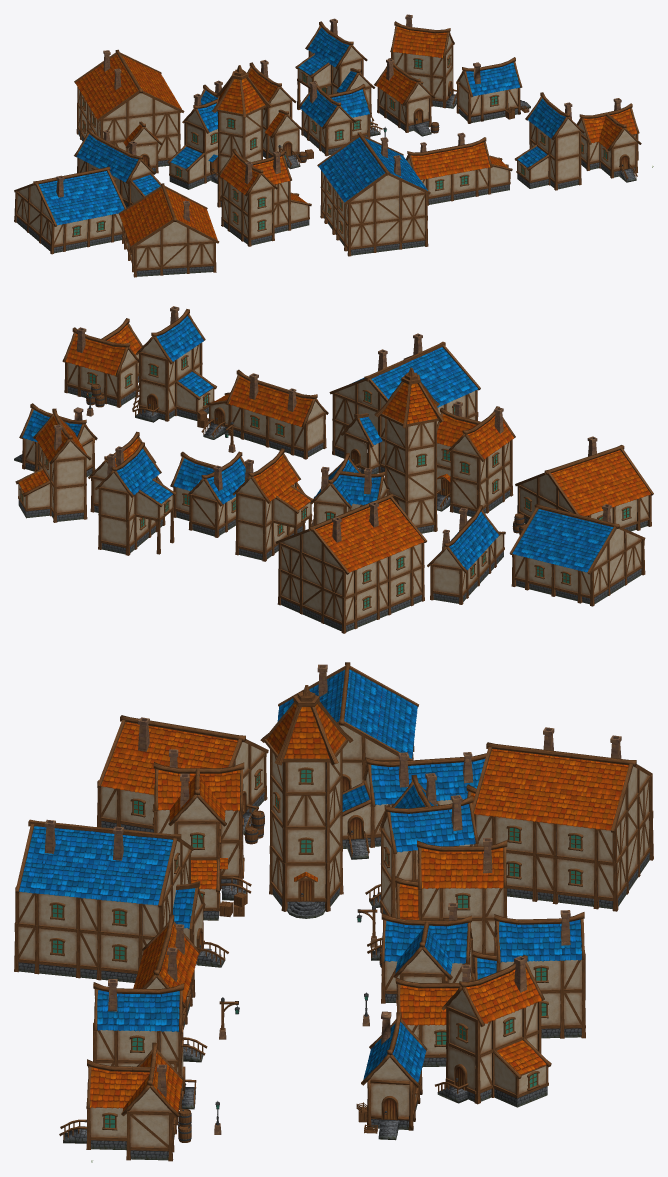
The model's file is MediEval Scene edited.fbx.
3 views of the same model, one above another, from view 1: azimuth 30°, elevation 25°; view 2: azimuth 150°, elevation 25°; view 3: azimuth 270°, elevation 25° (orthographic). The views are drawn at different scales.
Parts seen in each view (by area): view 1: BH8, RH8, BH6, RH7, RH6, RH3, BH1, Tower, BH2, RH5, RH1, BH7 (+5 smaller); view 2: RH8, BH6, BH8, RH7, RH6, Tower, RH3, BH1, BH7, RH4, RH5, RH1 (+5 smaller); view 3: BH8, RH8, Tower, RH5, RH7, RH6, RH1, RH4, BH7, BH6, BH1, BH4 (+5 smaller).
Boxes of the visible parts, <box> form: BH8: <box>317,132,430,256</box>; RH8: <box>74,49,184,174</box>; BH6: <box>14,166,126,254</box>; RH7: <box>118,183,219,277</box>; RH6: <box>217,148,311,246</box>; RH3: <box>406,132,512,205</box>; BH1: <box>514,92,584,190</box>; Tower: <box>212,65,271,207</box>; BH2: <box>298,81,382,156</box>; RH5: <box>390,14,456,108</box>; RH1: <box>576,98,641,182</box>; BH7: <box>295,18,375,125</box>; RH8: <box>275,493,426,633</box>; BH6: <box>509,504,645,606</box>; BH8: <box>329,333,480,473</box>; RH7: <box>515,436,653,531</box>; RH6: <box>437,401,515,516</box>; Tower: <box>374,367,443,533</box>; RH3: <box>201,369,328,459</box>; BH1: <box>132,306,216,422</box>; BH7: <box>95,442,176,555</box>; RH4: <box>232,448,313,561</box>; RH5: <box>15,408,91,522</box>; RH1: <box>62,318,142,407</box>; BH8: <box>14,819,228,982</box>; RH8: <box>466,727,653,911</box>; Tower: <box>260,685,353,918</box>; RH5: <box>435,955,551,1107</box>; RH7: <box>97,715,268,834</box>; RH6: <box>152,749,251,920</box>; RH1: <box>59,1042,183,1161</box>; RH4: <box>367,838,507,960</box>; BH7: <box>471,910,585,1038</box>; BH6: <box>277,662,418,791</box>; BH1: <box>93,979,196,1109</box>; BH4: <box>365,773,478,917</box>.
Bounding box in the file's own units: 4598 × 1119 × 3005.
